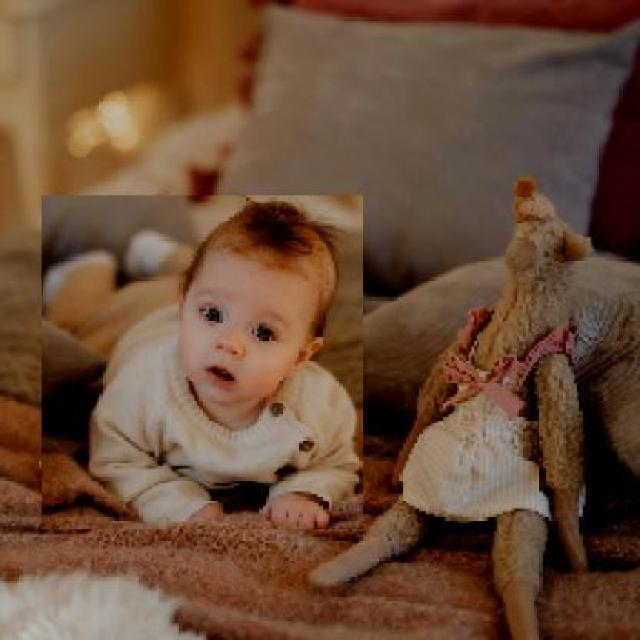child: (40, 195, 363, 531)
